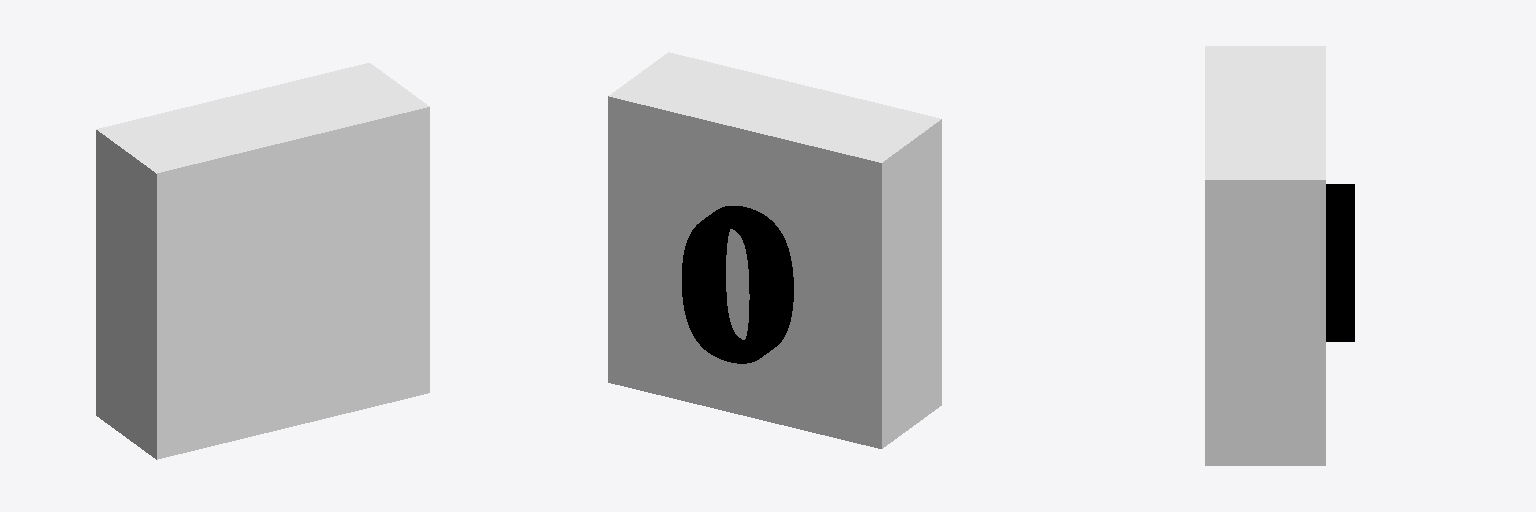
3 views of the same model, side by side, from view 1: azimuth 30°, elevation 25°; view 2: azimuth 150°, elevation 25°; view 3: azimuth 270°, elevation 25° (orthographic).
Parts seen in each view (by area): view 1: テキスト; view 2: テキスト; view 3: テキスト.
Boxes of the visible parts, x1=… form: テキスト: x1=96, y1=63, x2=429, y2=459; テキスト: x1=608, y1=52, x2=941, y2=448; テキスト: x1=1205, y1=46, x2=1354, y2=465.
Size of the model in its own units: 2 by 2 by 0.9446.
Materials: 1 (1 with a texture image).